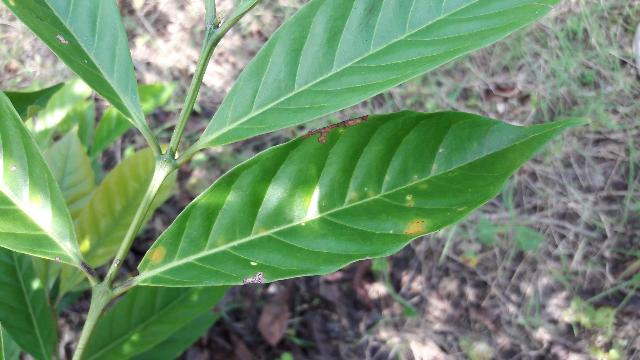rust_level_1: (133, 113, 590, 285)
